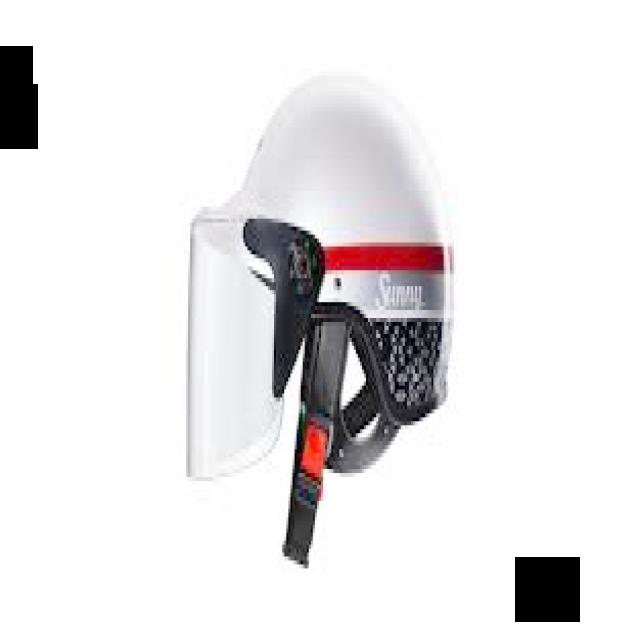Helmet: (140, 73, 466, 513)
